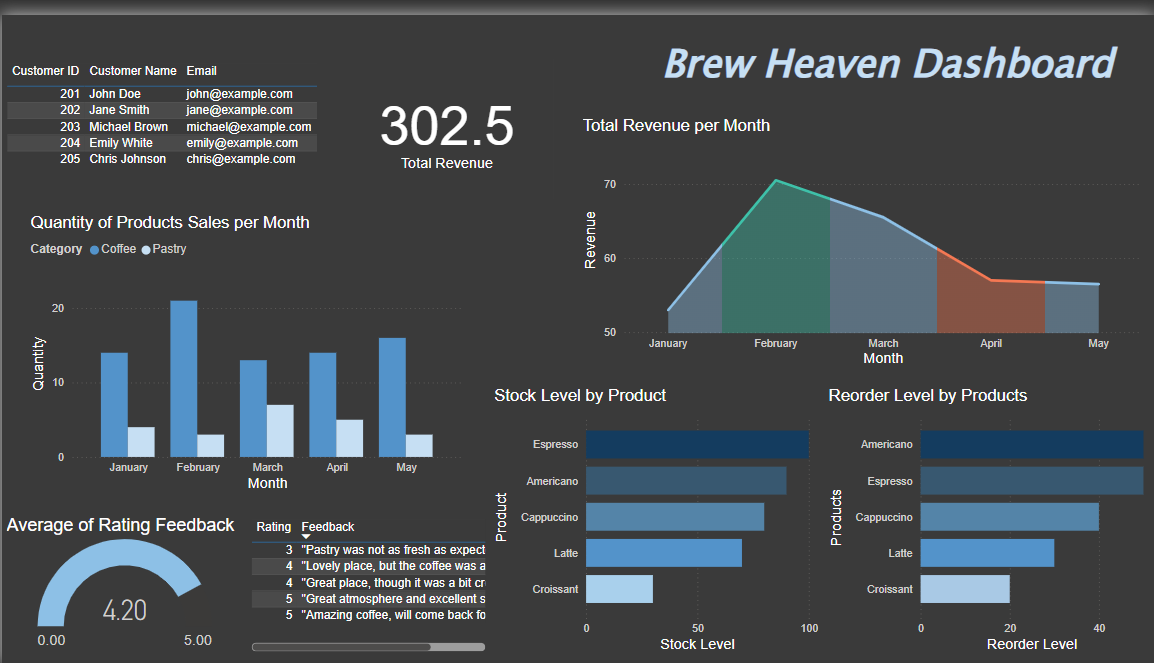

What the dashboard file says about the page in this screenshot:
{"tool":"powerbi","page":{"name":"Page 1","canvas":[1280,720],"ordinal":0},"visuals":[{"type":"tableEx","fields":{"Values":["Customers.Customer ID","Customers.Customer Name","Customers.Email"]},"box":[0,49.1,374.2,156.9],"z":0},{"type":"lineChart","title":"Total Revenue per Month","fields":{"Category":["Orders.Order Date.Variation.Date Hierarchy.Month","Orders.Order Date.Variation.Date Hierarchy.Day"],"Y":["Sum(Orders.Total Price)"]},"box":[640.6,111.5,631.2,283.5],"z":1000},{"type":"clusteredColumnChart","title":"Quantity of Products Sales per Month","fields":{"Category":["Orders.Order Date.Variation.Date Hierarchy.Month","Orders.Order Date.Variation.Date Hierarchy.Day"],"Y":["Sum(Orders.Quantity)"],"Series":["Products.Category"]},"box":[26.5,219.2,489.5,313.7],"z":2000},{"type":"card","fields":{"Values":["Sum(Orders.Total Price)"]},"box":[374.2,49.1,238.1,156.9],"z":3000},{"type":"gauge","title":"Average of Rating Feedback","fields":{"Y":["Avg(Feedback.Rating)"],"MaxValue":["Count(Feedback.Feedback)"]},"box":[0,555.6,272.1,156.9],"z":4000},{"type":"tableEx","fields":{"Values":["Feedback.Rating","Feedback.Feedback"]},"box":[272.1,555.6,270.2,156.9],"z":5000},{"type":"barChart","title":" Stock Level by Product ","fields":{"Category":["Products.Product Name"],"Y":["Sum(Inventory.Stock Level)"]},"box":[542.4,412,370.4,300.5],"z":6000},{"type":"clusteredBarChart","fields":{"Y":["Sum(Inventory.Reorder Level)"],"Category":["Products.Product Name"]},"box":[912.8,412,366.6,300.5],"z":7000},{"type":"textbox","box":[727.6,17,540.5,88.8],"z":8000}]}

Visuals, with their boxes in screenshot pixels (x1, y1, x2, y2), scaled from the page's 1280x720 canvas onto the 1154x663 screenshot:
tableEx - Customers.Customer ID x Customers.Customer Name: pyautogui.locateOnScreen(0, 45, 337, 190)
"Total Revenue per Month" lineChart: pyautogui.locateOnScreen(578, 103, 1147, 364)
"Quantity of Products Sales per Month" clusteredColumnChart: pyautogui.locateOnScreen(24, 202, 465, 491)
card - Sum(Orders.Total Price): pyautogui.locateOnScreen(337, 45, 552, 190)
"Average of Rating Feedback" gauge: pyautogui.locateOnScreen(0, 512, 245, 656)
tableEx - Feedback.Rating x Feedback.Feedback: pyautogui.locateOnScreen(245, 512, 489, 656)
" Stock Level by Product " barChart: pyautogui.locateOnScreen(489, 379, 823, 656)
clusteredBarChart - Sum(Inventory.Reorder Level) x Products.Product Name: pyautogui.locateOnScreen(823, 379, 1153, 656)
textbox: pyautogui.locateOnScreen(656, 16, 1143, 97)
